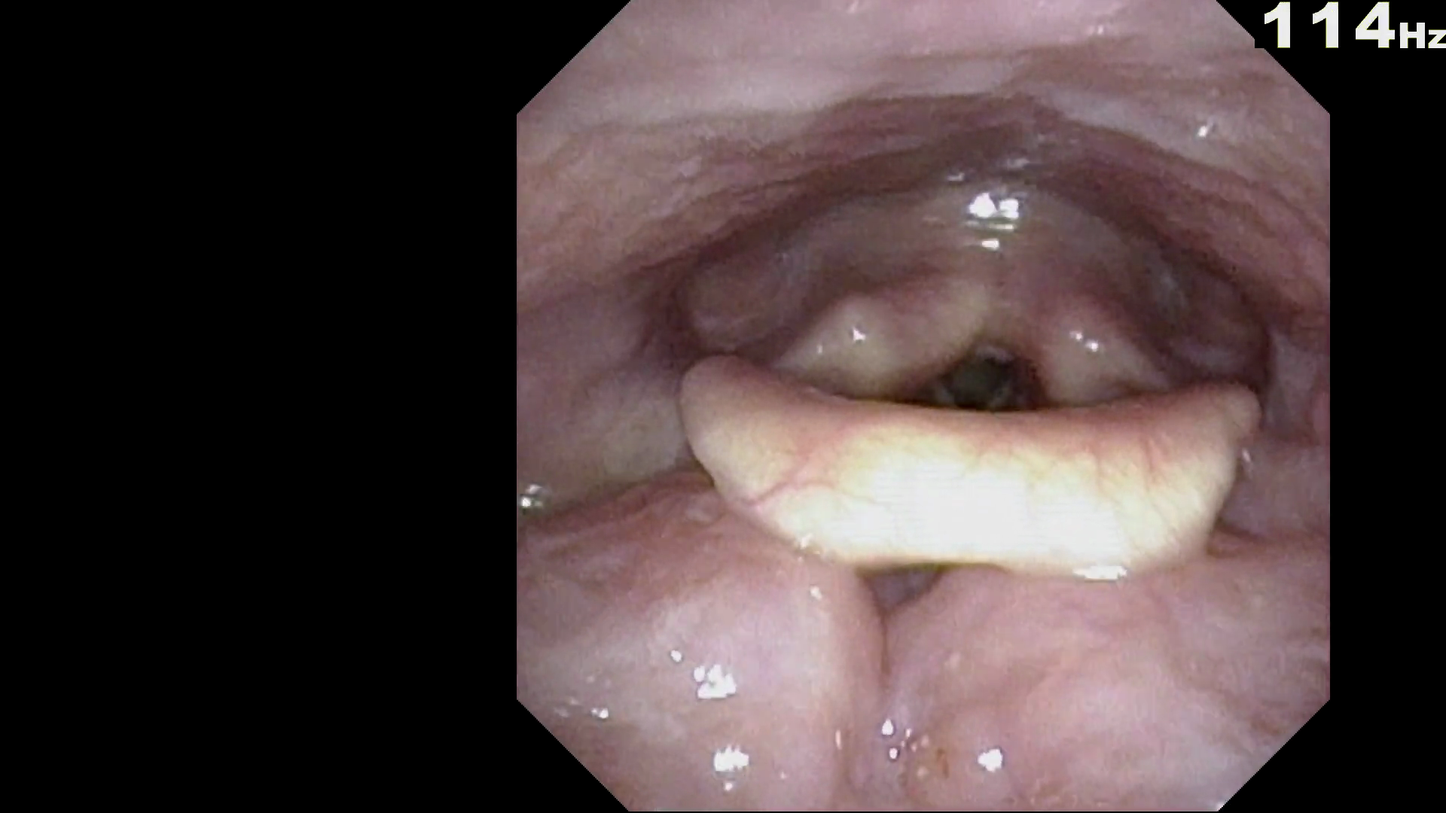epiglottis: (669, 338, 1273, 600)
trachea: (910, 306, 1057, 460)
